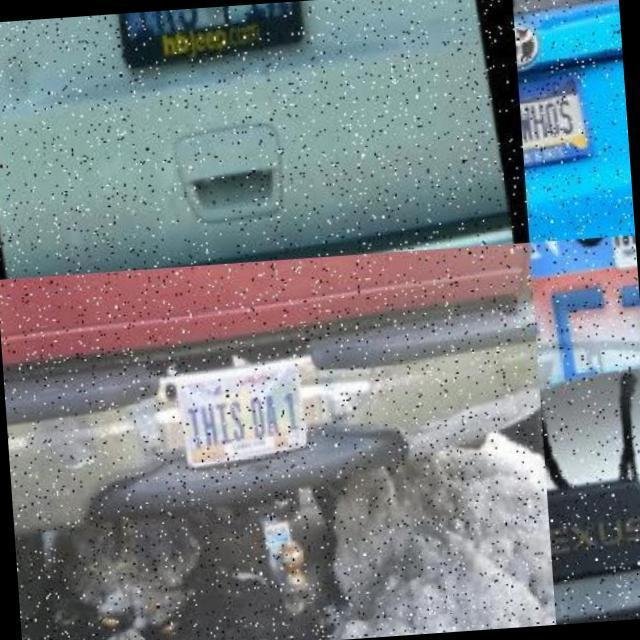License Plate: (528, 234, 640, 578), (98, 1, 302, 83), (169, 372, 301, 476), (517, 76, 586, 175)
